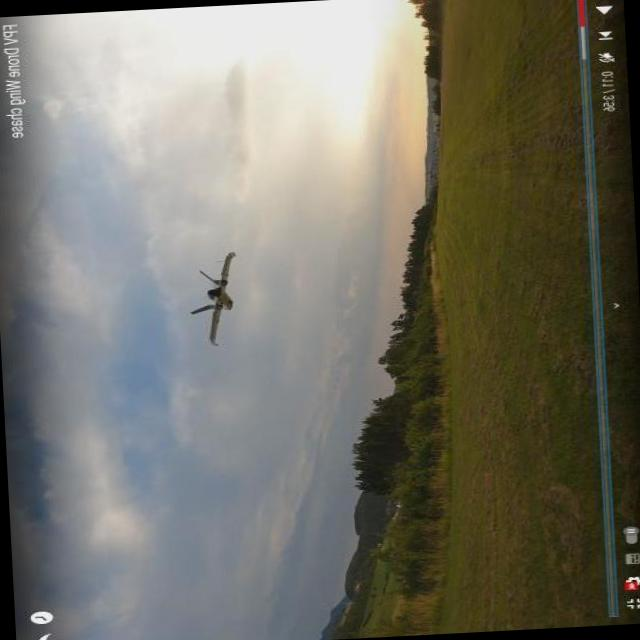UAV: (188, 245, 260, 382)
